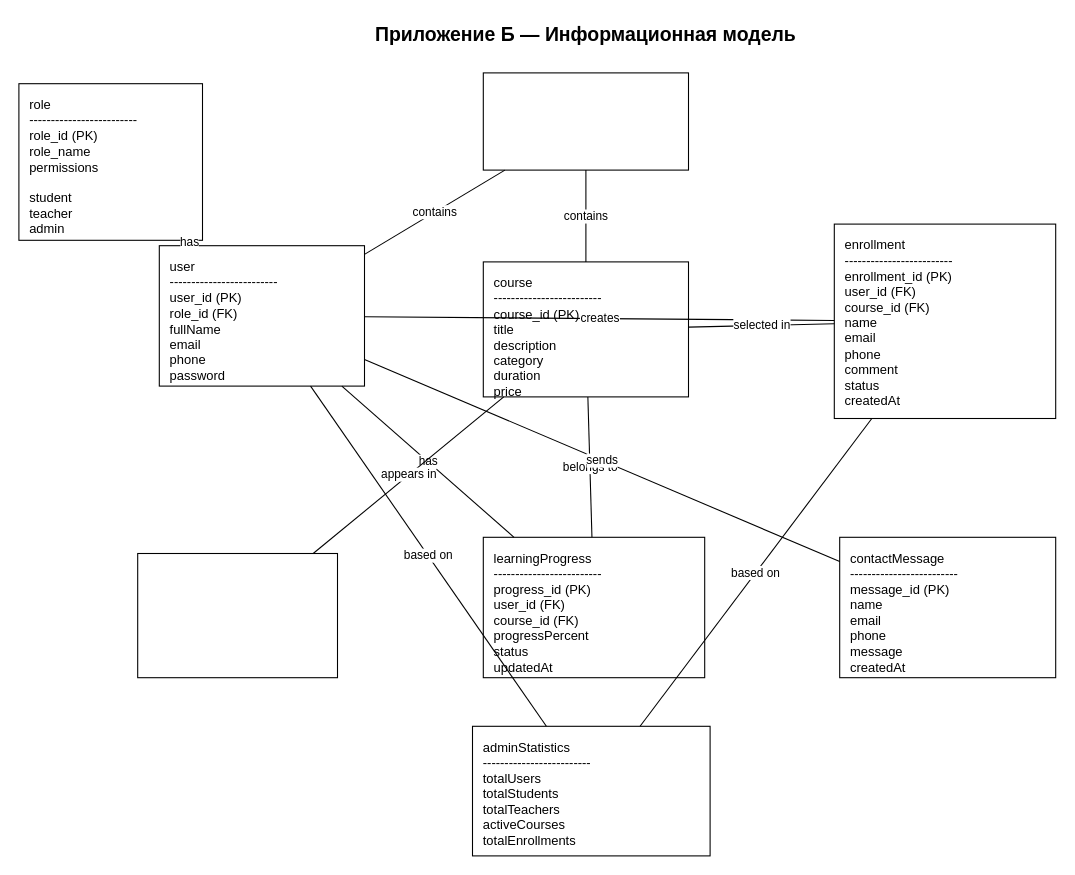
This 1075x875 diagram has some shape labels left out. The shapes that lost their labels are listed below. From the top down, each one's centre as x and y in pixels, then its label:
[585,121]: educationalPortal ------------------------- portal_id (PK) name description
[237,615]: review ------------------------- review_id (PK) authorName role text createdAt
